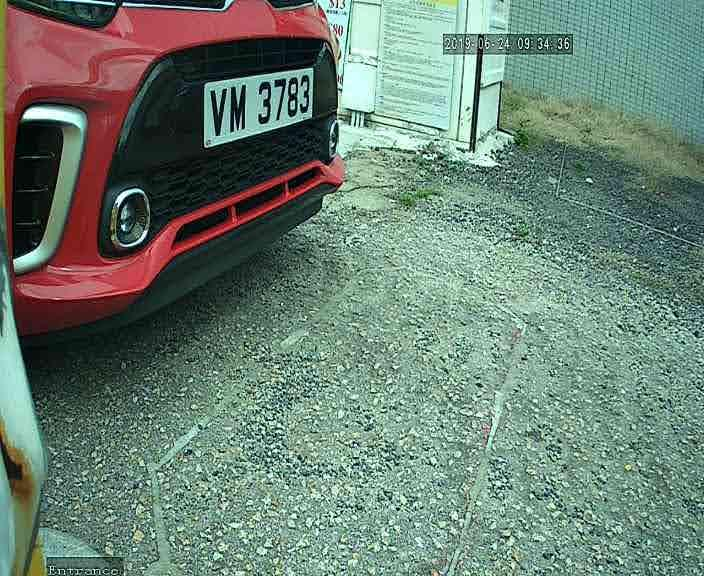privatecar: (2, 2, 356, 351)
